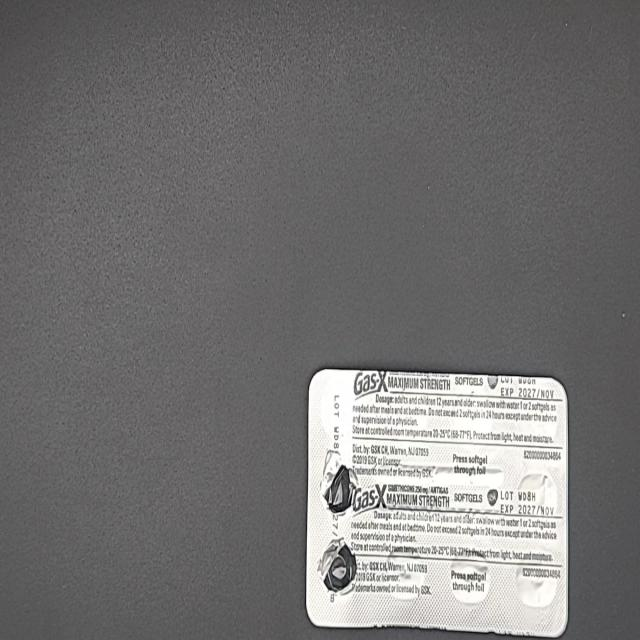defect: (318, 448, 359, 519), (316, 535, 359, 599)
